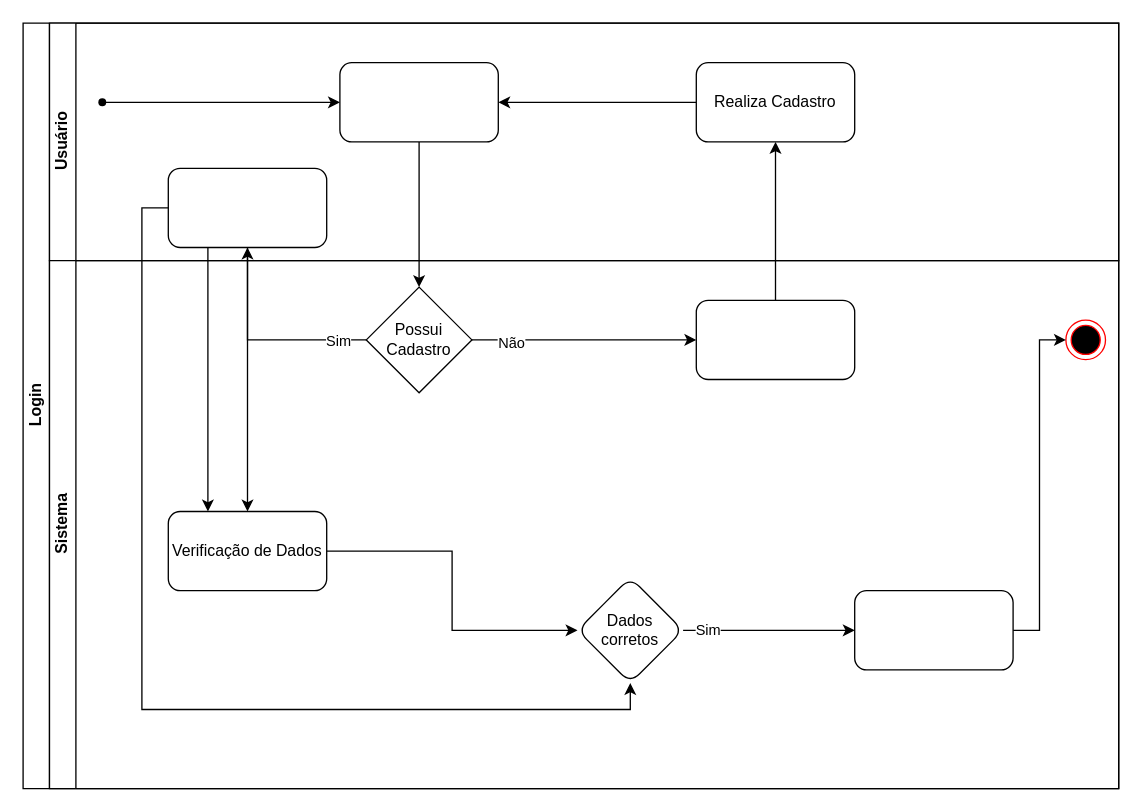
The diagram is 1142 pixels wide and 812 high, and some of its shapes have lost their labels. Here are the shapes that lost their labels. From the top down, the box of each, then its label:
(339, 61, 498, 142): Realiza Login
(167, 167, 327, 248): Insere Dados
(695, 299, 855, 380): Informa ao usuário
(853, 589, 1013, 670): Efetua Login
